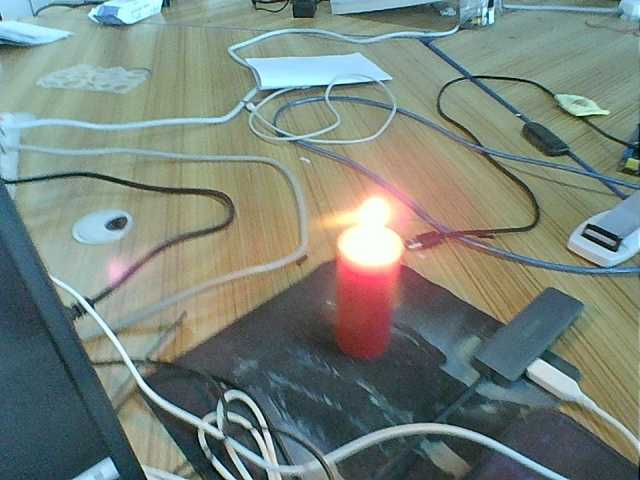candle: (329, 261, 396, 358)
fire: (349, 198, 401, 257)
